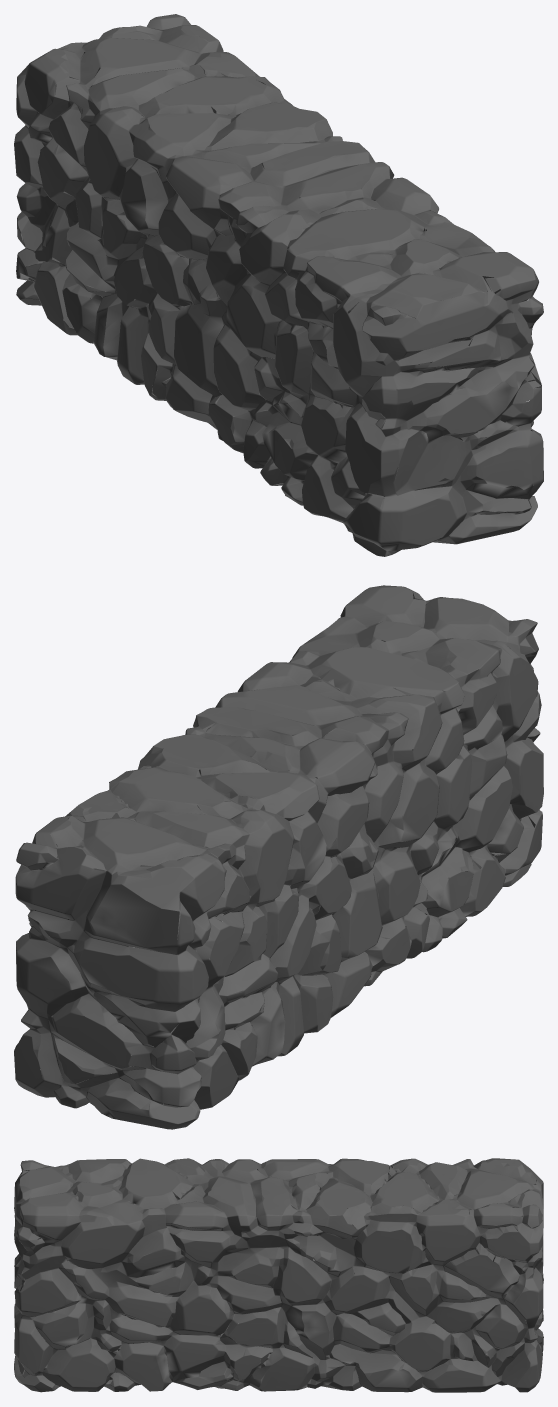
The model's file is Rockwall2.fbx.
3 views of the same model, one above another, from view 1: azimuth 30°, elevation 25°; view 2: azimuth 150°, elevation 25°; view 3: azimuth 270°, elevation 25° (orthographic). The views are drawn at different scales.
Visible parts, largest first — view 1: Cube.001; view 2: Cube.001; view 3: Cube.001.
Part boxes in pixels (x1,y1,x2,y2): Cube.001: [14, 14, 543, 556]; Cube.001: [14, 585, 543, 1129]; Cube.001: [14, 1158, 543, 1392].
Bounding box in the file's own units: 3492 × 4727 × 12310.
1 material, 1 textured.
